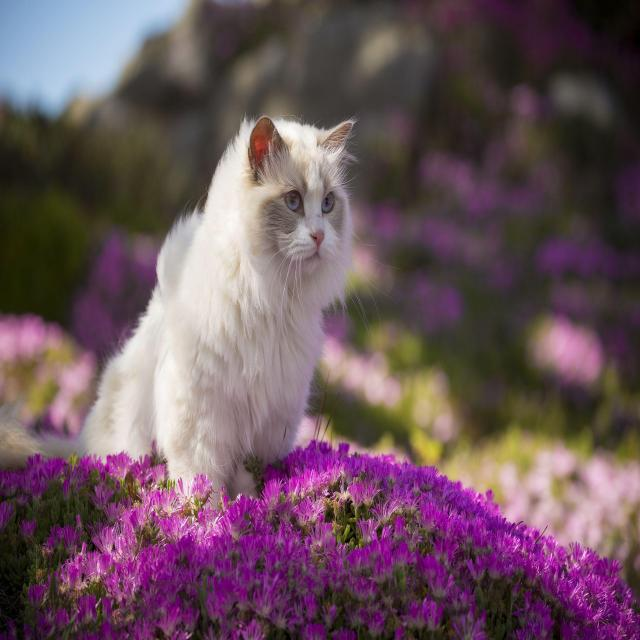Cat: (166, 70, 384, 339)
